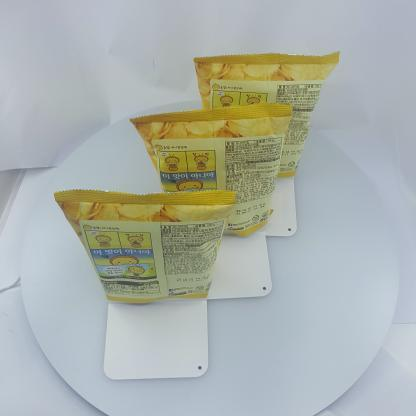Plastic Packaging: (44, 184, 244, 315), (145, 96, 287, 188)
